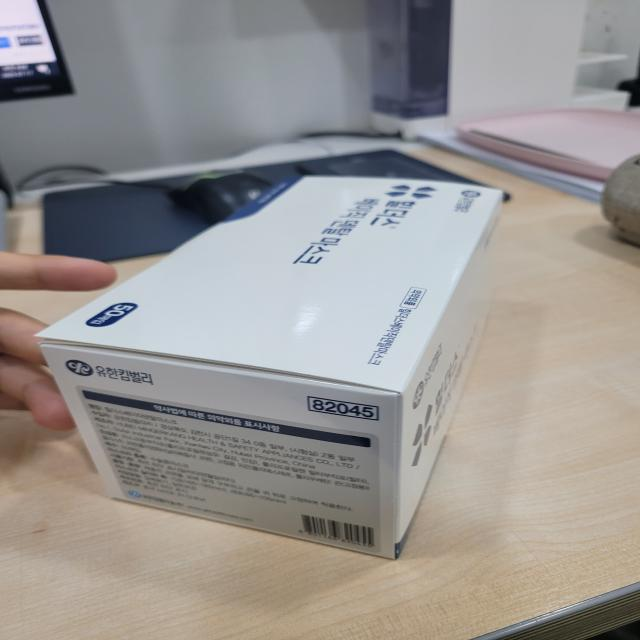mask: (40, 166, 530, 594)
